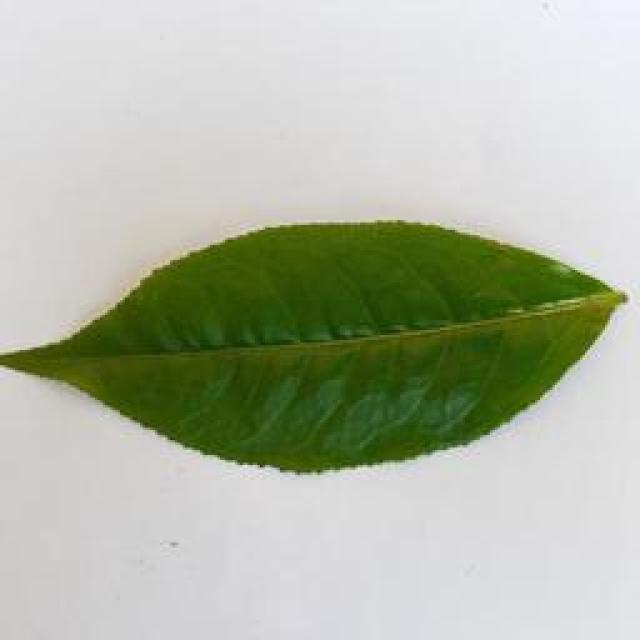Healthy: (0, 212, 640, 491)
